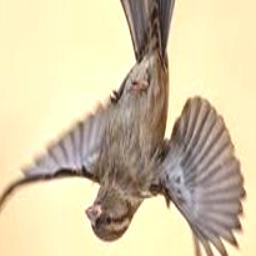Sparrow: (0, 0, 245, 256)
